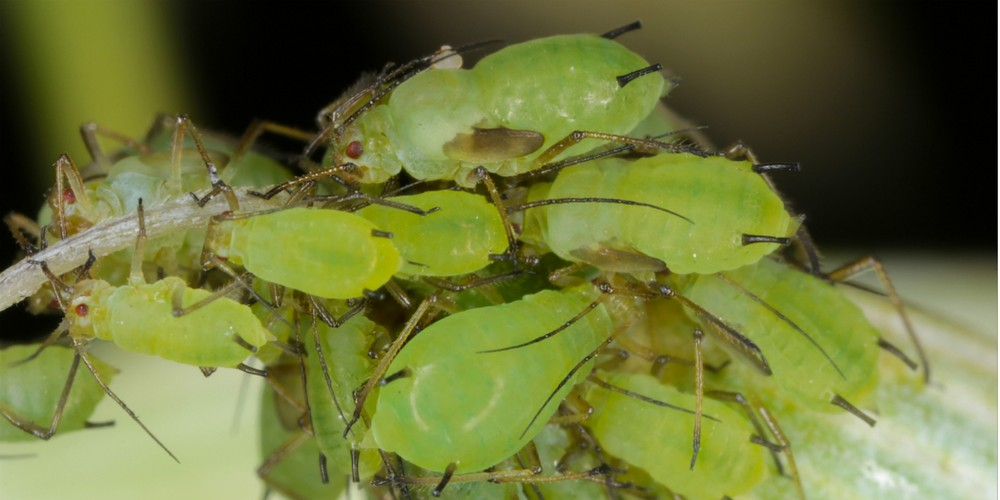Pulgon: (287, 15, 683, 194), (362, 264, 653, 474), (661, 242, 916, 432), (507, 140, 814, 290), (572, 344, 803, 497), (46, 251, 279, 391), (193, 200, 411, 317), (341, 187, 526, 296)
